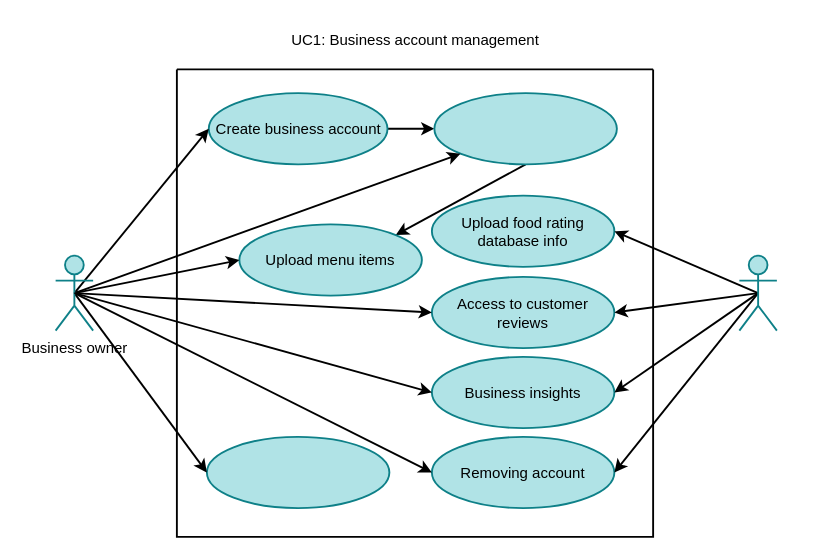
The diagram is 839 pixels wide and 559 high, and some of its shapes have lost their labels. The centre of each missing label's shape, as x and y in pixels:
Add description: the point at 525,128
Advertisment: the point at 297,471
App support team: the point at 757,292
